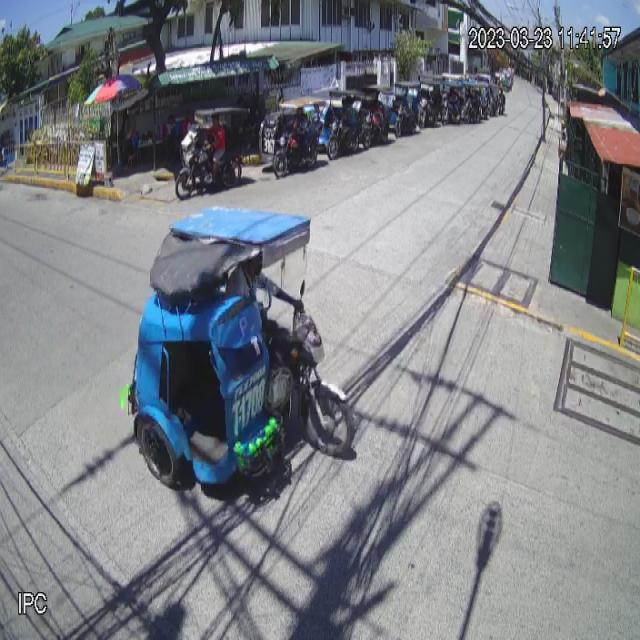Tricycle: (123, 207, 355, 490)
